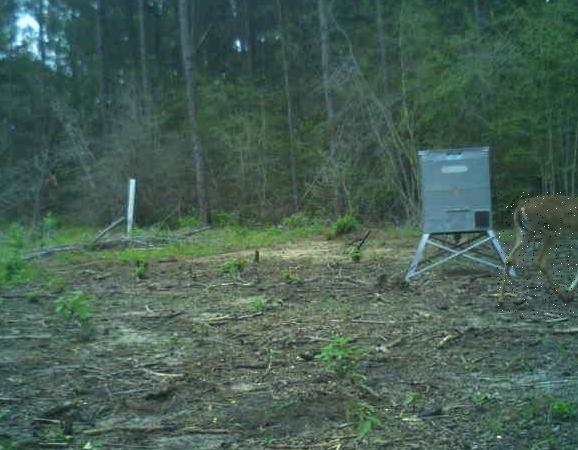Deer: (497, 191, 578, 316)
